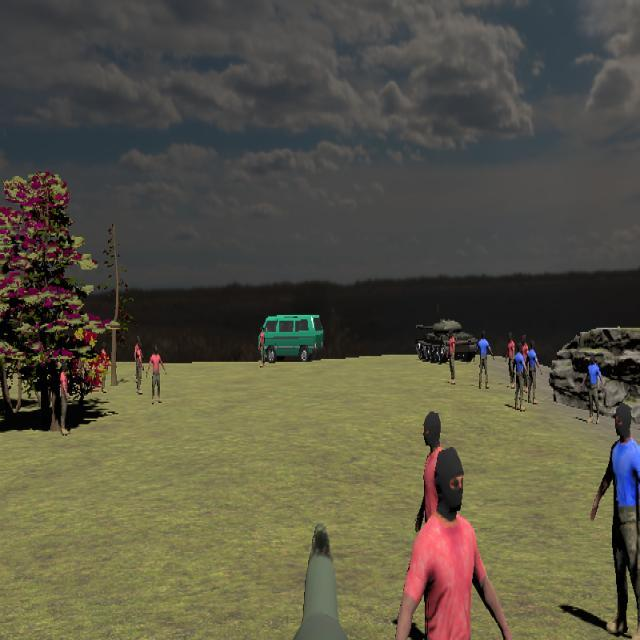Human: (390, 442, 515, 640), (393, 443, 515, 639), (591, 400, 640, 639), (582, 354, 604, 424), (474, 330, 494, 389), (147, 344, 166, 404), (512, 342, 528, 410), (525, 340, 541, 404), (504, 332, 516, 388), (447, 330, 457, 384), (135, 337, 144, 395)
Tank: (415, 316, 480, 363)
car: (260, 313, 325, 363)
